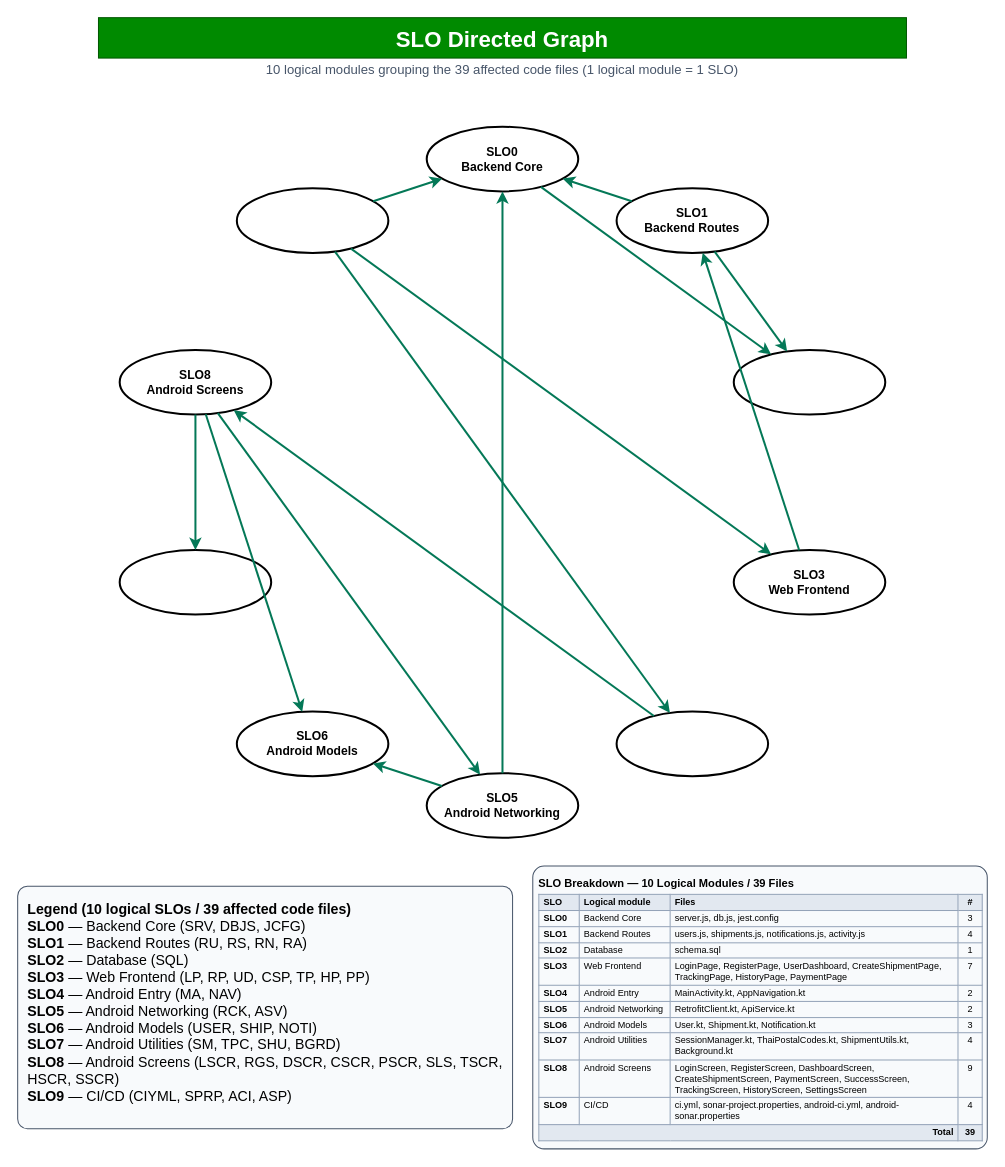
Some shapes in this 1005 by 1167 pixel diagram are drawn without their labels. The shapes that lost their labels are listed below. From the top down, each one's centre as x and y in pixels, then its label:
the point at 312,220: SLO9 CI/CD
the point at 809,381: SLO2 Database
the point at 195,581: SLO7 Android Utilities
the point at 692,743: SLO4 Android Entry
